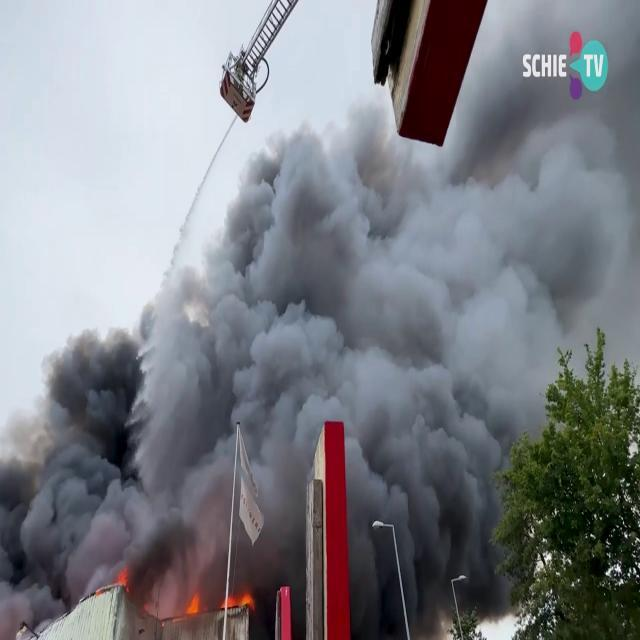Smoke: (1, 104, 616, 606)
